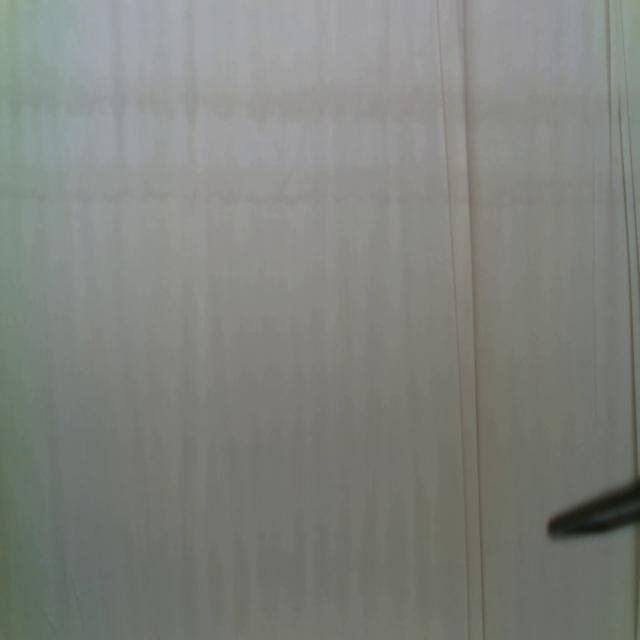color bleeding: (1, 152, 640, 212), (2, 79, 640, 131)
crease: (437, 0, 485, 640), (616, 1, 640, 475), (589, 140, 601, 414), (604, 0, 615, 191)
